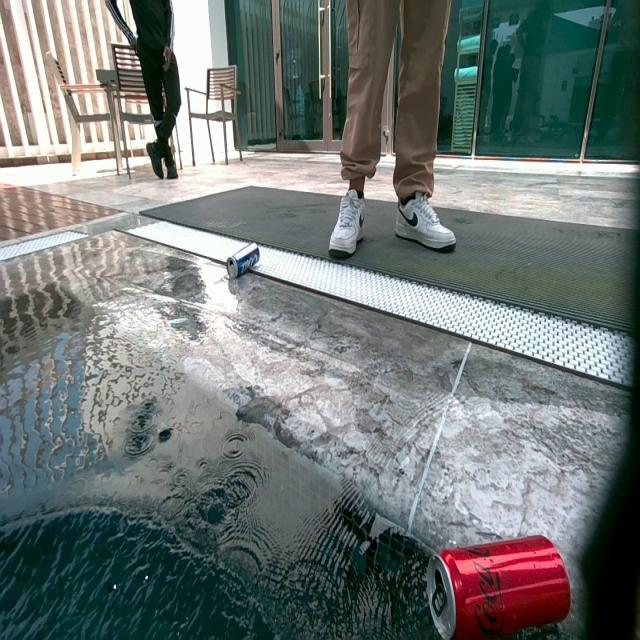Cans: (426, 535, 572, 638), (224, 243, 260, 281)
